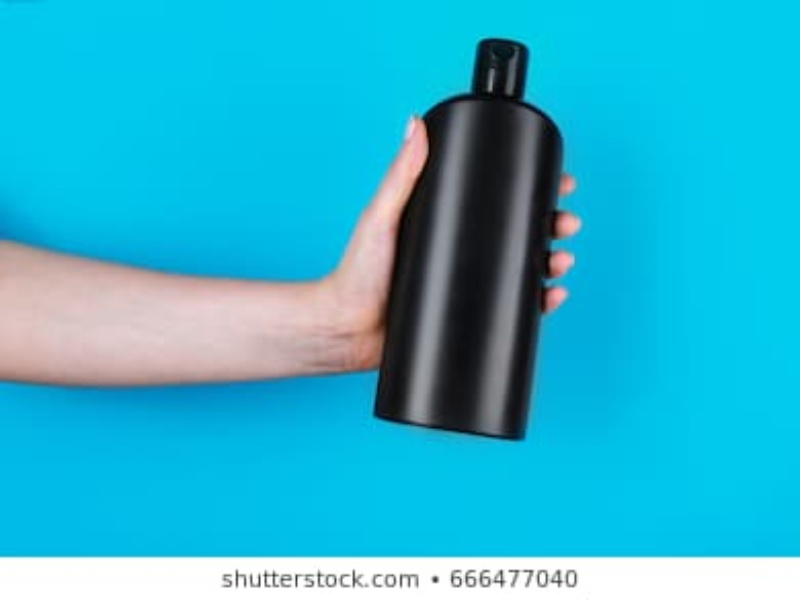shampoo-bottle: (371, 34, 567, 443)
